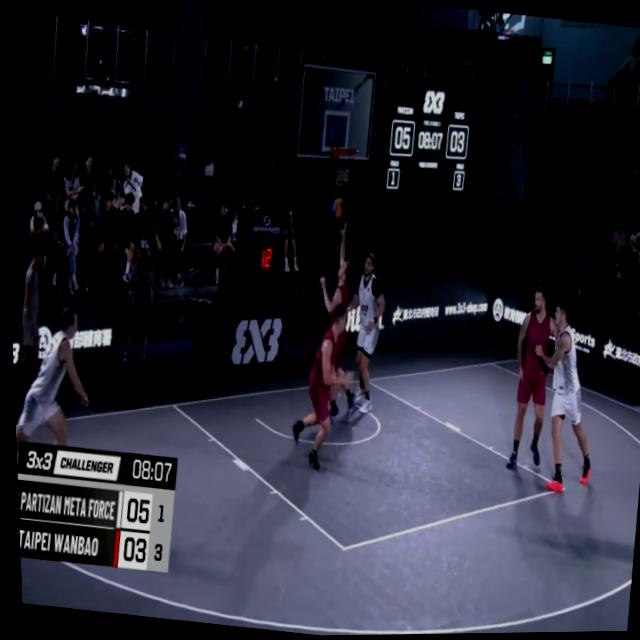ball: (326, 195, 347, 224)
hoop: (325, 143, 358, 191)
player: (9, 295, 103, 533), (518, 288, 612, 503), (292, 216, 375, 418), (276, 293, 361, 477), (491, 275, 564, 477), (336, 236, 396, 427)
